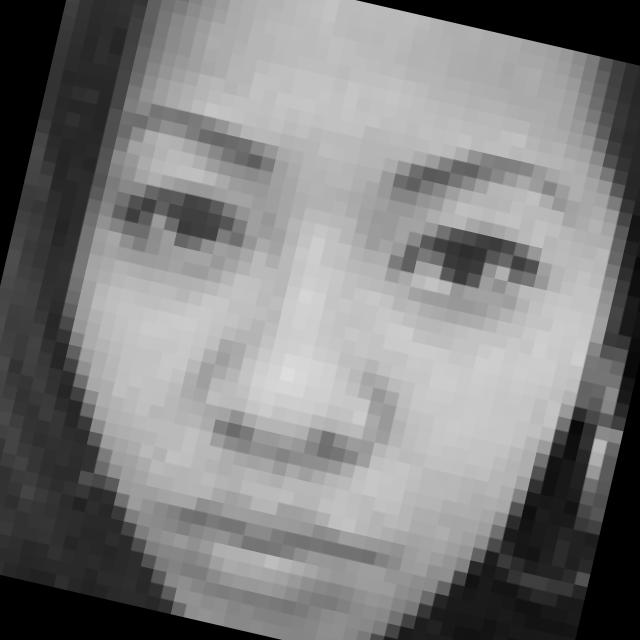neutral: (22, 61, 596, 640)
